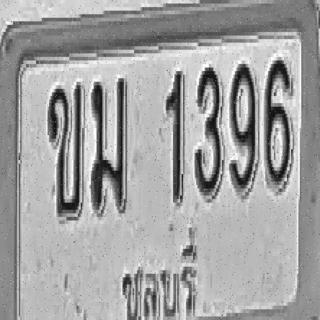A02: (46, 82, 85, 219)
A33: (89, 75, 128, 217)
N01: (165, 70, 184, 204)
N03: (194, 64, 222, 196)
N06: (264, 57, 292, 188)
N09: (230, 60, 256, 192)
P13: (120, 234, 204, 320)
